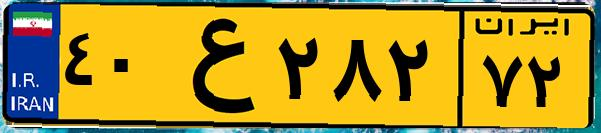0: (110, 28, 158, 98)
2: (270, 28, 330, 110), (385, 28, 445, 110), (525, 38, 570, 115)
4: (57, 26, 110, 100)
7: (475, 38, 525, 113)
8: (330, 28, 385, 110)
ع: (158, 12, 270, 120)
